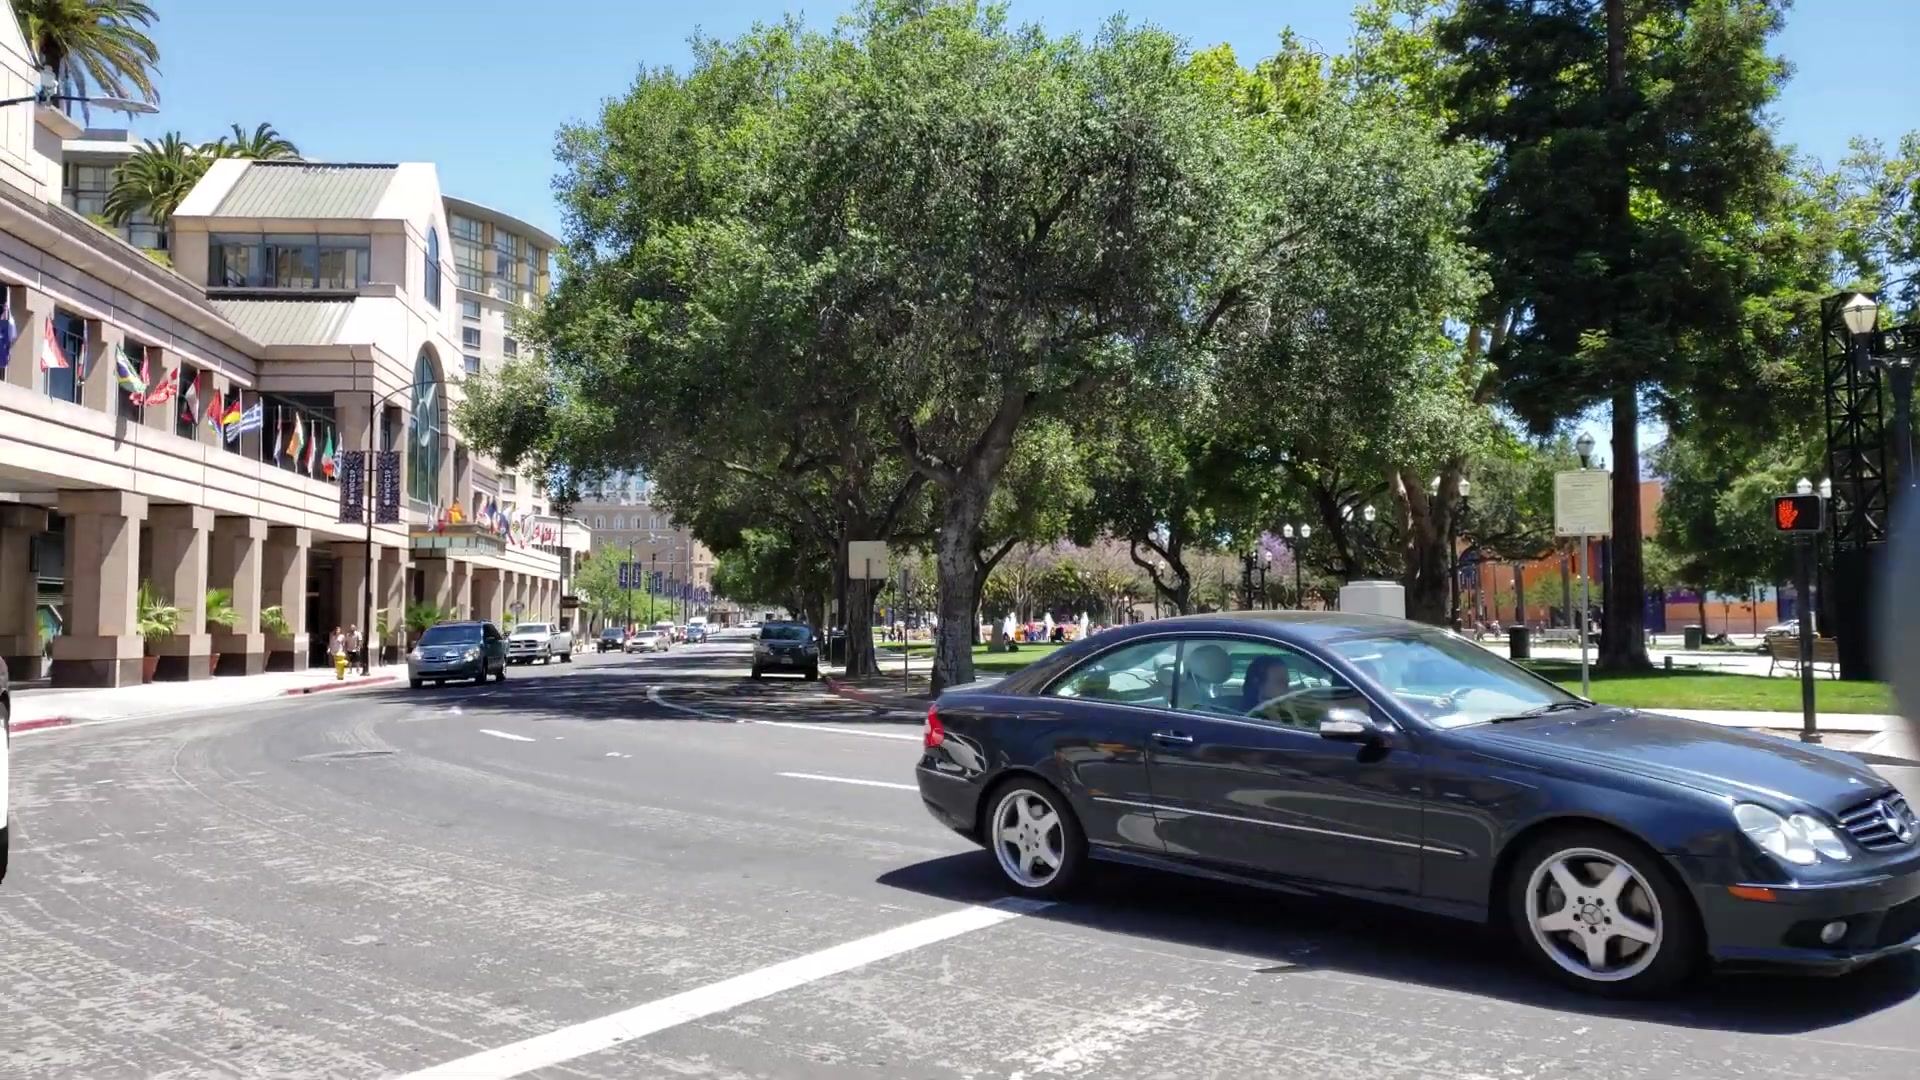vehicle: (919, 609, 1919, 992), (406, 625, 506, 676), (753, 622, 818, 676), (504, 626, 576, 669)
